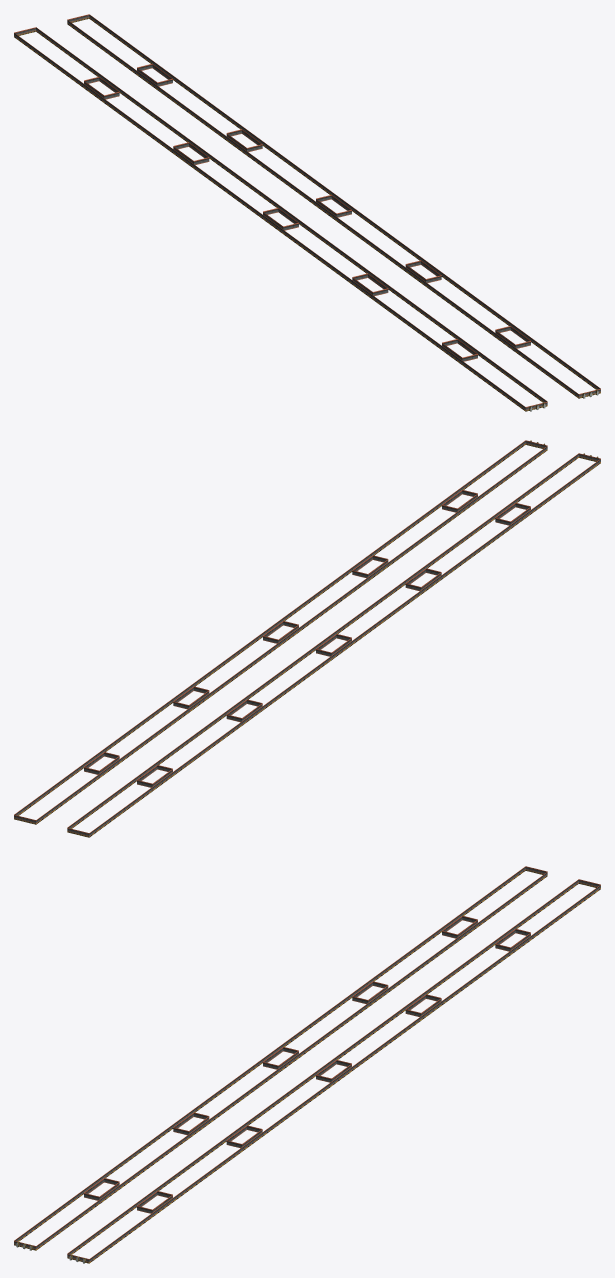
3 renders of one model, top to bottom at view 1: azimuth 30°, elevation 25°; view 2: azimuth 150°, elevation 25°; view 3: azimuth 330°, elevation 25°, orthographic.
Visible parts, largest first — view 1: Object_2; view 2: Object_2; view 3: Object_2.
Part boxes in pixels (left/top/right/bottom): Object_2: left=14, top=14, right=600, bottom=411; Object_2: left=14, top=440, right=600, bottom=837; Object_2: left=14, top=866, right=600, bottom=1263.
Bounding box in the file's own units: 340 × 20.39 × 4010.
